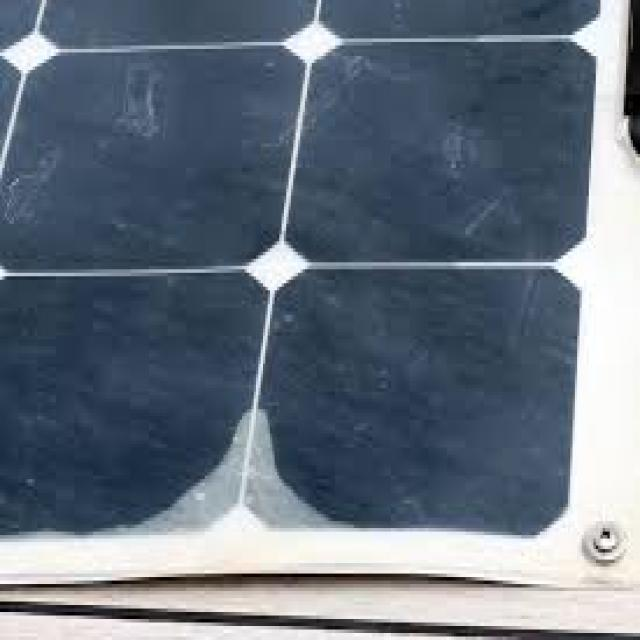faulty: (16, 0, 591, 567)
